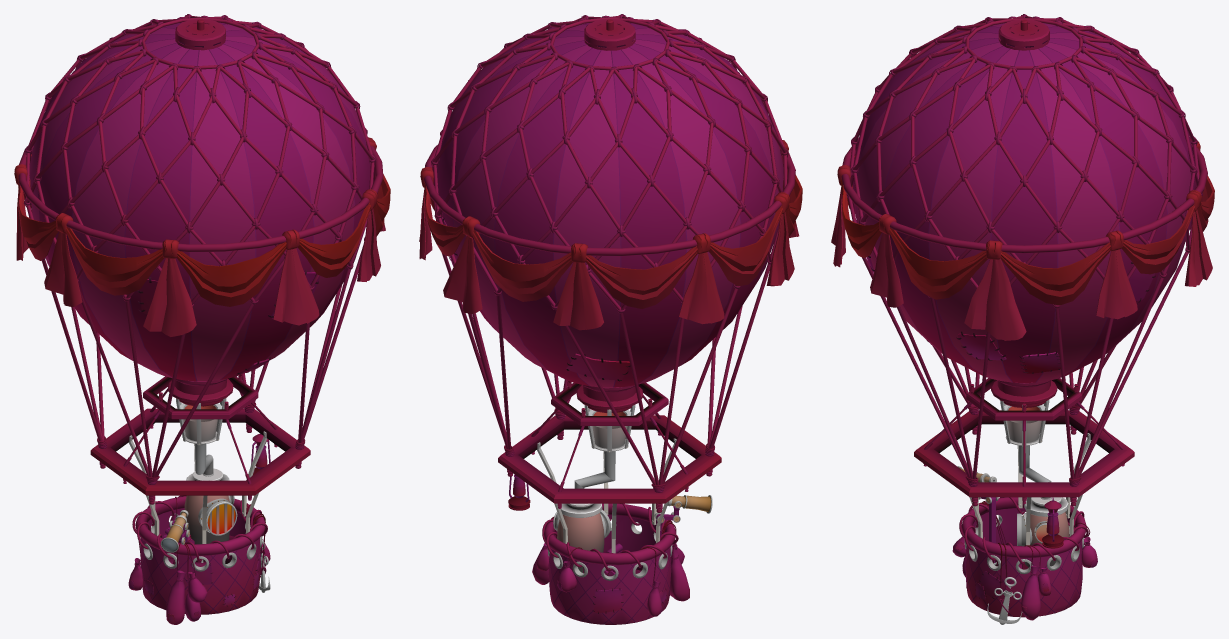
The model's file is hot_air_balloon-violet.glb.
3 renders of one model, left to right at view 1: azimuth 30°, elevation 25°; view 2: azimuth 150°, elevation 25°; view 3: azimuth 270°, elevation 25°, orthographic.
Parts seen in each view (by area): view 1: BezierCurve.003; view 2: BezierCurve.003; view 3: BezierCurve.003.
Part boxes in pixels (<box>): BezierCurve.003: <box>14,14,390,624</box>; BezierCurve.003: <box>419,14,802,624</box>; BezierCurve.003: <box>831,14,1214,624</box>.
Bounding box in the file's own units: 10.02 × 16.79 × 10.09.
